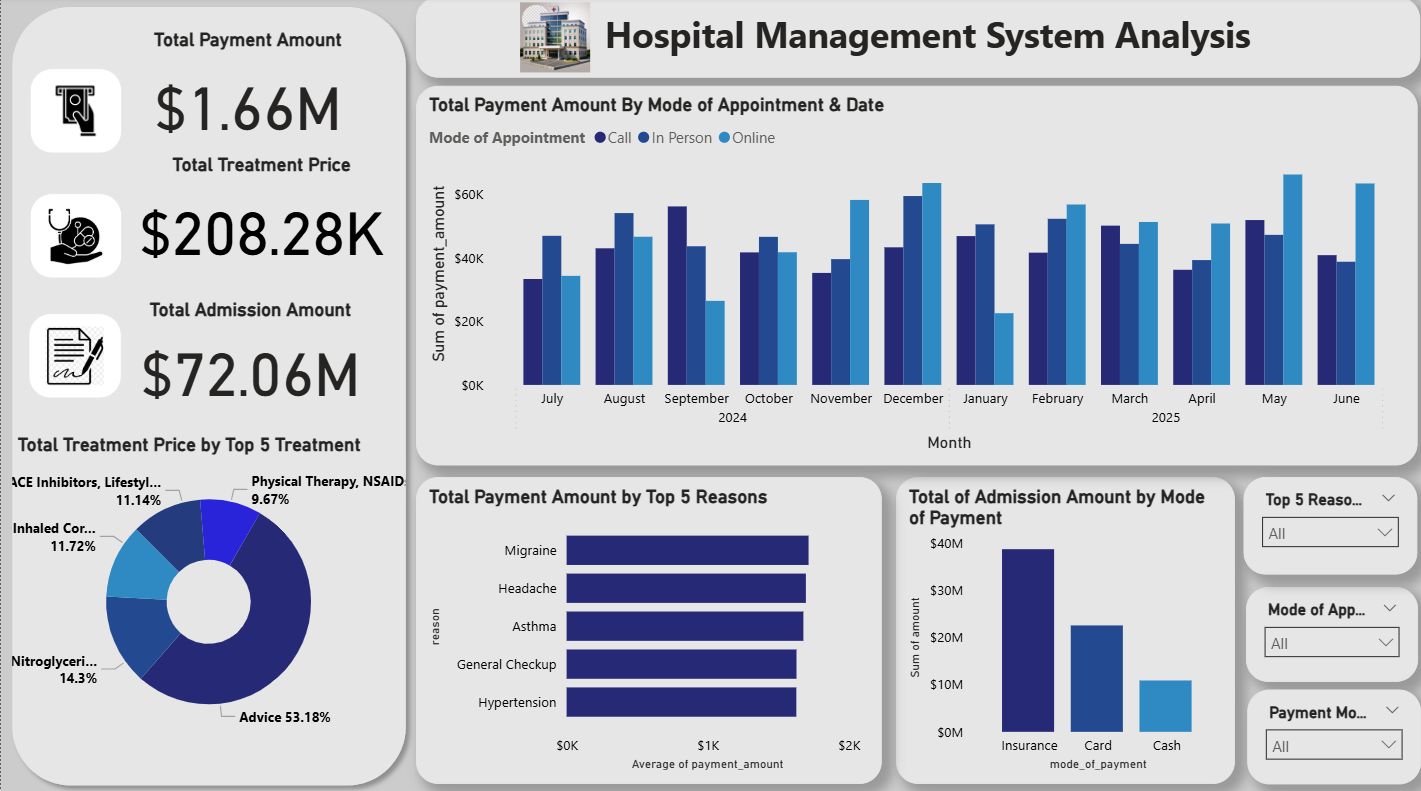

The dashboard page shown, as its layout file describes it:
{"tool":"powerbi","page":{"name":"1","canvas":[1280,720],"ordinal":0},"visuals":[{"type":"shape","box":[1.4,0,372.9,720],"z":0},{"type":"card","title":"Total Payment Amount","fields":{"Values":["Sum(Appointment.payment_amount)"]},"box":[82.9,28.6,278.6,112.9],"z":1000},{"type":"card","title":"Total Treatment Price","fields":{"Values":["Sum(MedicalRecords.Treatment_price)"]},"box":[95.7,141.4,278.6,112.9],"z":2000},{"type":"card","title":"Total Admission Amount","fields":{"Values":["Sum(Roomrecords.amount)"]},"box":[85.7,271.4,278.6,105.7],"z":3000},{"type":"image","box":[25.7,64.3,82.9,77.1],"z":4000},{"type":"image","box":[25.7,177.1,82.9,77.1],"z":5000},{"type":"image","box":[24.3,285.7,84.3,77.1],"z":6000},{"type":"donutChart","title":"Total Treatment Price by Top 5 Treatment","fields":{"Category":["MedicalRecords.treatment"],"Y":["Sum(MedicalRecords.Treatment_price)"]},"box":[10.3,393.1,354.6,285.2],"z":7000},{"type":"columnChart","title":"Total of Admission Amount by Mode of Payment","fields":{"Category":["Roomrecords.mode_of_payment"],"Y":["Sum(Roomrecords.amount)"],"Series":["Roomrecords.mode_of_payment"]},"box":[806.6,432.6,305.9,276.6],"z":8000},{"type":"textbox","box":[374.3,0,905.7,72.9],"z":9000},{"type":"clusteredColumnChart","title":"Total Payment Amount By Mode of Appointment & Date","fields":{"Category":["Appointment.appointment_Date.Variation.Date Hierarchy.Year","Appointment.appointment_Date.Variation.Date Hierarchy.Month"],"Series":["Appointment.mode_of_appointment"],"Y":["Sum(Appointment.payment_amount)"]},"box":[374.4,79.6,903.1,342.1],"z":10000},{"type":"barChart","title":"Total Payment Amount by Top 5 Reasons","fields":{"Category":["Appointment.reason"],"Y":["Avg(Appointment.payment_amount)"]},"box":[373.9,432.6,420.3,276.6],"z":11000},{"type":"image","box":[438.6,0,122.9,72.9],"z":12000},{"type":"slicer","fields":{"Values":["Appointment.mode_of_appointment"]},"box":[1122.1,532.4,155.5,85.8],"z":13000},{"type":"slicer","fields":{"Values":["Appointment.reason"]},"box":[1120.8,432.9,156.7,88.3],"z":14000},{"type":"slicer","fields":{"Values":["Roomrecords.mode_of_payment"]},"box":[1123.3,624.5,156.7,85.8],"z":16000}]}

Visuals, with their boxes in screenshot pixels (x1, y1, x2, y2), scaled from the page's 1280x720 canvas onto the 1421x791 screenshot:
shape: <bbox>2, 0, 416, 790</bbox>
"Total Payment Amount" card: <bbox>92, 31, 401, 155</bbox>
"Total Treatment Price" card: <bbox>106, 155, 416, 279</bbox>
"Total Admission Amount" card: <bbox>95, 298, 404, 414</bbox>
image: <bbox>29, 71, 121, 155</bbox>
image: <bbox>29, 195, 121, 279</bbox>
image: <bbox>27, 314, 121, 399</bbox>
"Total Treatment Price by Top 5 Treatment" donutChart: <bbox>11, 432, 405, 745</bbox>
"Total of Admission Amount by Mode of Payment" columnChart: <bbox>895, 475, 1235, 779</bbox>
textbox: <bbox>416, 0, 1420, 80</bbox>
"Total Payment Amount By Mode of Appointment & Date" clusteredColumnChart: <bbox>416, 87, 1418, 463</bbox>
"Total Payment Amount by Top 5 Reasons" barChart: <bbox>415, 475, 882, 779</bbox>
image: <bbox>487, 0, 623, 80</bbox>
slicer - Appointment.mode_of_appointment: <bbox>1246, 585, 1418, 679</bbox>
slicer - Appointment.reason: <bbox>1244, 476, 1418, 573</bbox>
slicer - Roomrecords.mode_of_payment: <bbox>1247, 686, 1420, 780</bbox>
